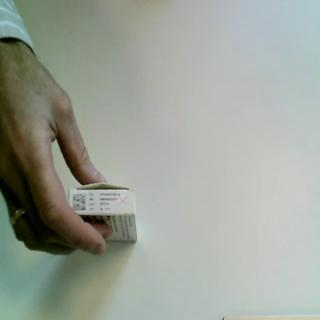oxycontin5mg: (67, 182, 139, 246)
